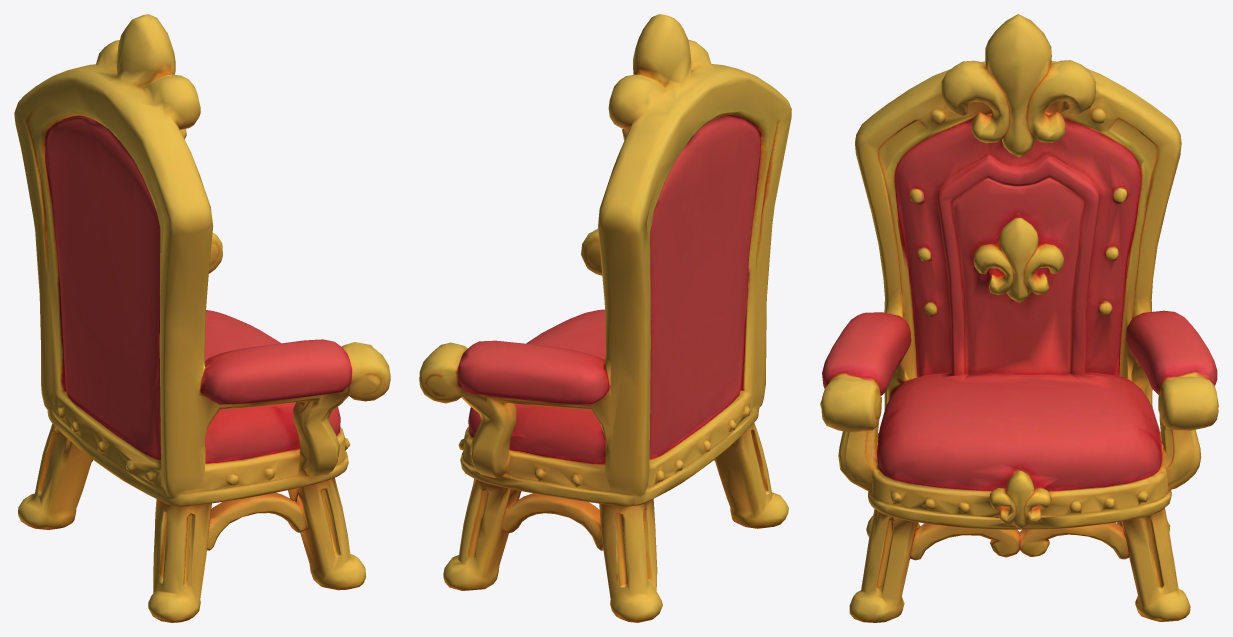
Rendered from throne.glb.
3 renders of one model, left to right at view 1: azimuth 30°, elevation 25°; view 2: azimuth 150°, elevation 25°; view 3: azimuth 270°, elevation 25°, orthographic.
Parts seen in each view (by area): view 1: tripo_node_495e2f09-cfa3-41ea-9db0-1ce83220166d; view 2: tripo_node_495e2f09-cfa3-41ea-9db0-1ce83220166d; view 3: tripo_node_495e2f09-cfa3-41ea-9db0-1ce83220166d.
Part boxes in pixels (x1,y1,x2,y2): tripo_node_495e2f09-cfa3-41ea-9db0-1ce83220166d: [14, 14, 390, 622]; tripo_node_495e2f09-cfa3-41ea-9db0-1ce83220166d: [419, 14, 791, 622]; tripo_node_495e2f09-cfa3-41ea-9db0-1ce83220166d: [820, 14, 1218, 622].
Size of the model in its own units: 0.4455 by 1 by 0.6699.
Materials: 1 (1 with a texture image).
